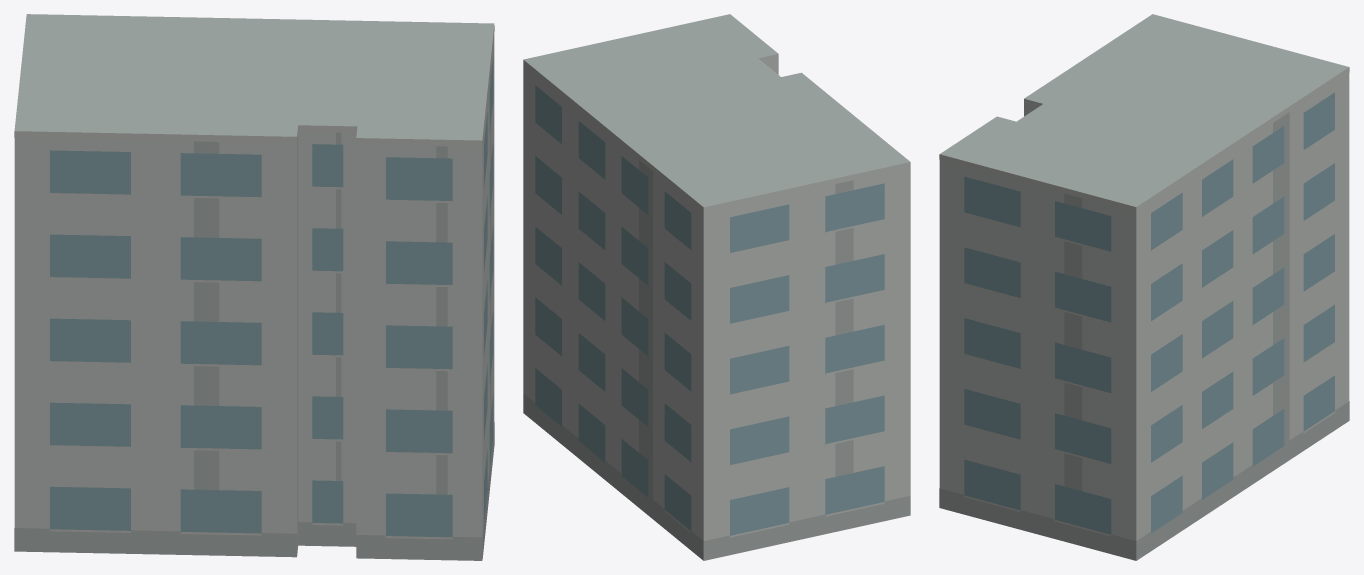
File: survey-upis-32607570.glb
3 renders of one model, left to right at view 1: azimuth 30°, elevation 25°; view 2: azimuth 150°, elevation 25°; view 3: azimuth 270°, elevation 25°, orthographic. The views are drawn at different scales.
Parts seen in each view (by area): view 1: survey-upis-32607570.tmp; view 2: survey-upis-32607570.tmp; view 3: survey-upis-32607570.tmp.
Boxes of the visible parts, bbox=[...] form: survey-upis-32607570.tmp: bbox=[14, 14, 494, 560]; survey-upis-32607570.tmp: bbox=[523, 14, 910, 560]; survey-upis-32607570.tmp: bbox=[939, 14, 1349, 560].
Bounding box in the file's own units: 17.86 × 15.25 × 16.02.
